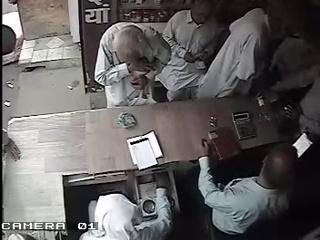Normal: (196, 138, 298, 238), (194, 0, 274, 100), (156, 0, 224, 102), (94, 21, 172, 108), (80, 184, 172, 240)
